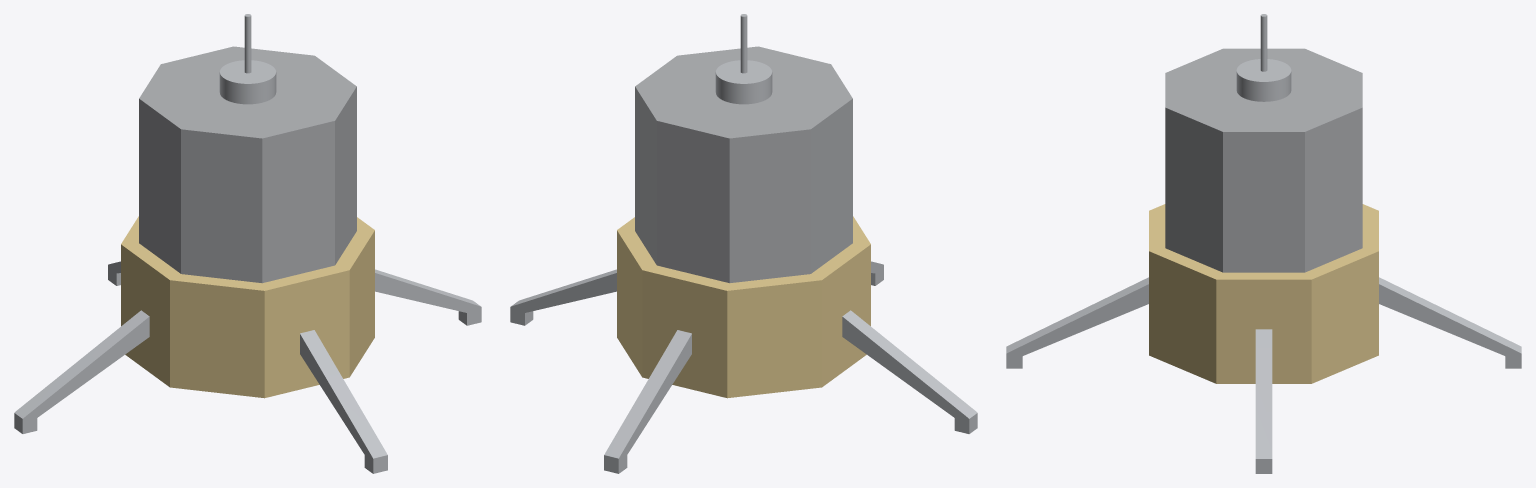
Rendered from lunar_lander.glb.
The picture shows the model from 3 angles, left to right: view 1: azimuth 30°, elevation 25°; view 2: azimuth 150°, elevation 25°; view 3: azimuth 270°, elevation 25°; orthographic projection. The views are drawn at different scales.
Visible parts, largest first — view 1: ascent_stage, descent_stage, leg_3, leg_4, docking_tunnel, leg_1; view 2: ascent_stage, descent_stage, leg_3, leg_2, docking_tunnel, leg_1; view 3: ascent_stage, descent_stage, leg_2, leg_4, leg_1, docking_tunnel.
Boxes of the visible parts, x1,y1,x2,y2 form: ascent_stage: (139, 46, 356, 283); descent_stage: (121, 216, 374, 398); leg_3: (14, 310, 149, 433); leg_4: (300, 330, 387, 473); docking_tunnel: (219, 60, 276, 104); leg_1: (375, 269, 481, 325); ascent_stage: (635, 46, 852, 283); descent_stage: (617, 216, 870, 398); leg_3: (842, 310, 977, 433); leg_2: (604, 330, 691, 473); docking_tunnel: (715, 60, 772, 104); leg_1: (510, 269, 616, 325); ascent_stage: (1165, 48, 1362, 272); descent_stage: (1149, 204, 1378, 383); leg_2: (1379, 277, 1521, 368); leg_4: (1006, 277, 1148, 368); leg_1: (1255, 329, 1272, 473); docking_tunnel: (1236, 59, 1291, 101).
Size of the model in its own units: 9.4 by 7.04 by 9.4.
